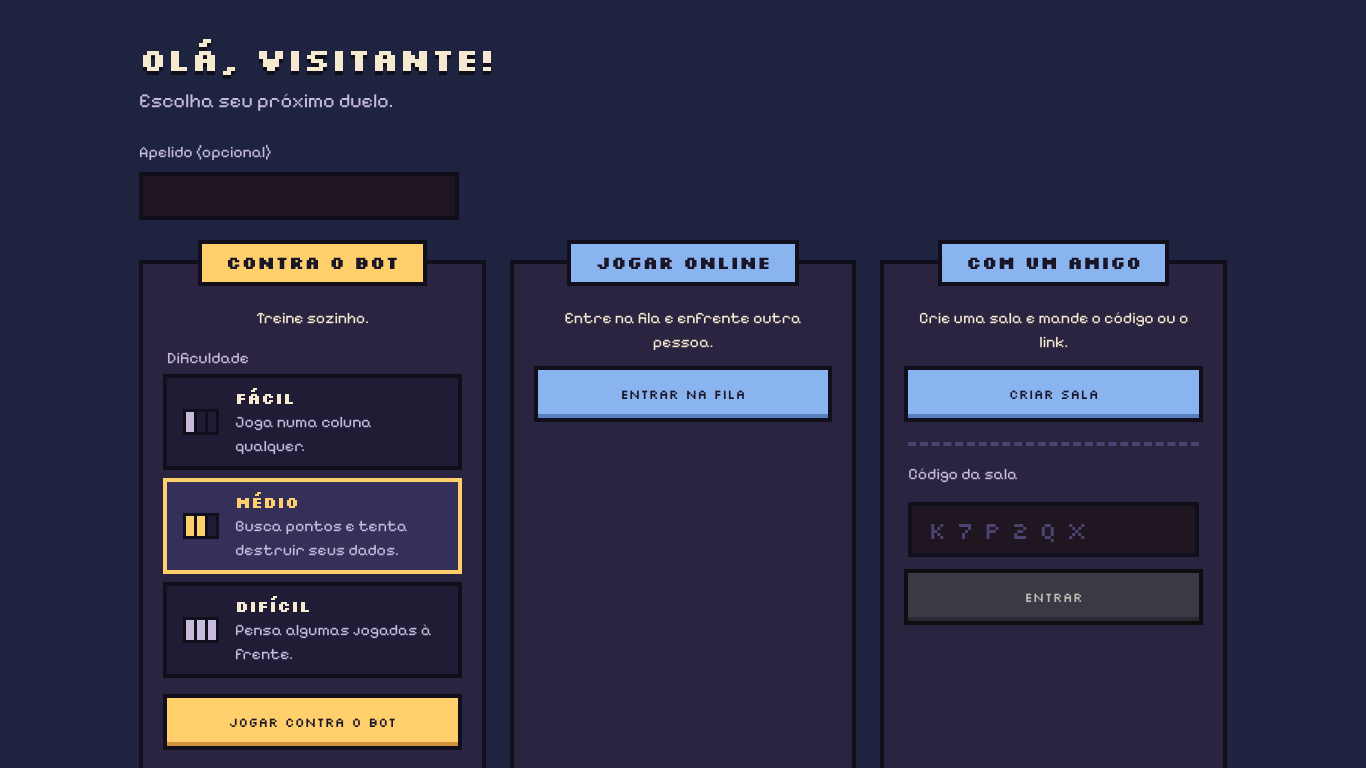
Scenario: Lobby › cancelar sai da fila e volta ao formulário
Step 1. Click the button "Entrar na fila" → (683, 394), box [538,370,828,418]
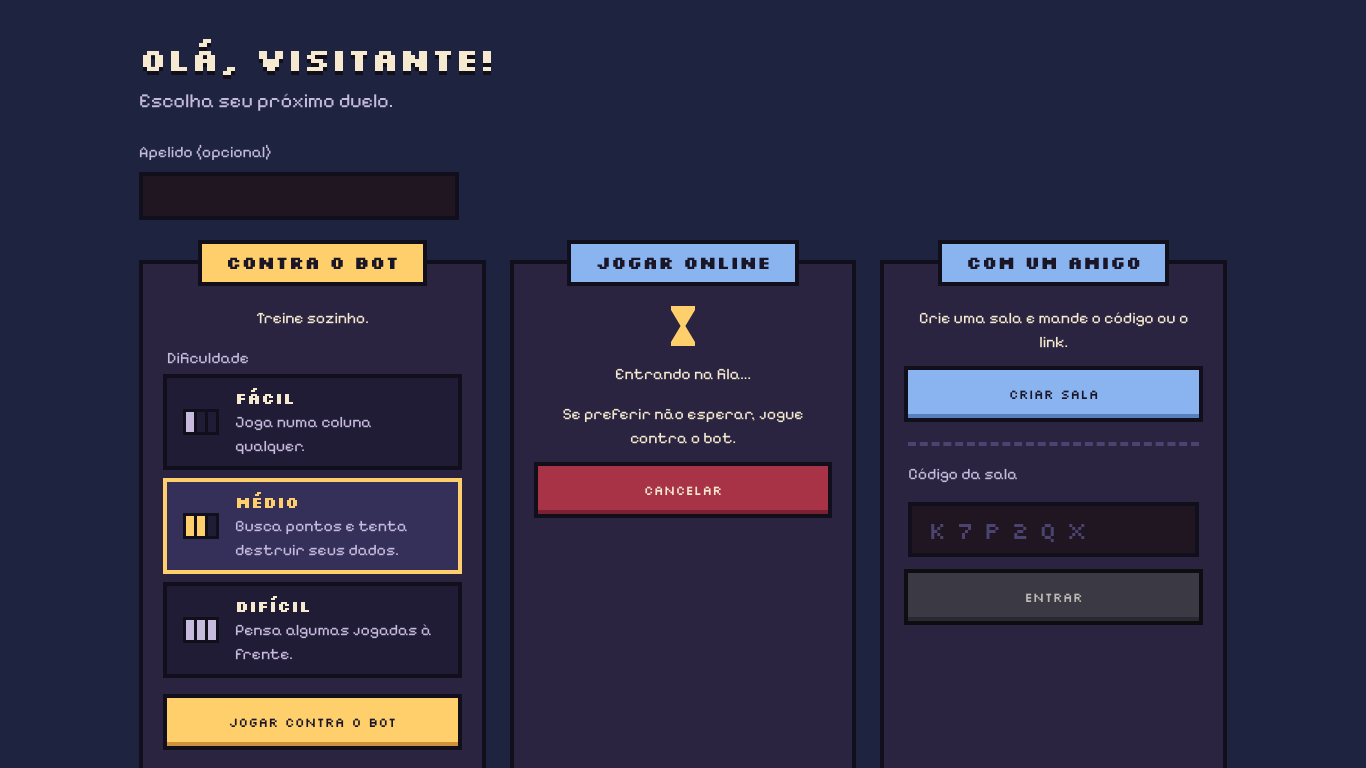
Step 2. Click the button "Cancelar" → (683, 490), box [538,466,828,514]
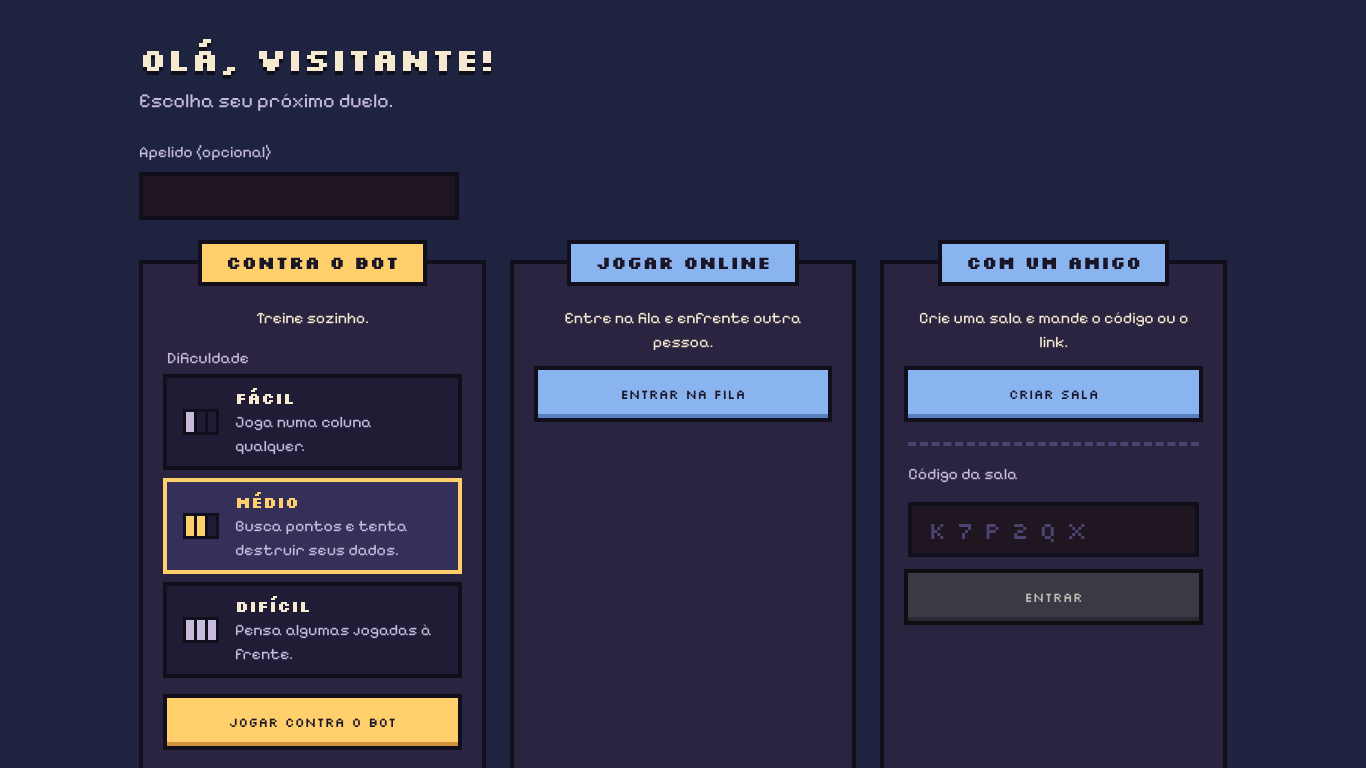
Expected: the button "Entrar na fila" is shown, [538,370,828,418]
